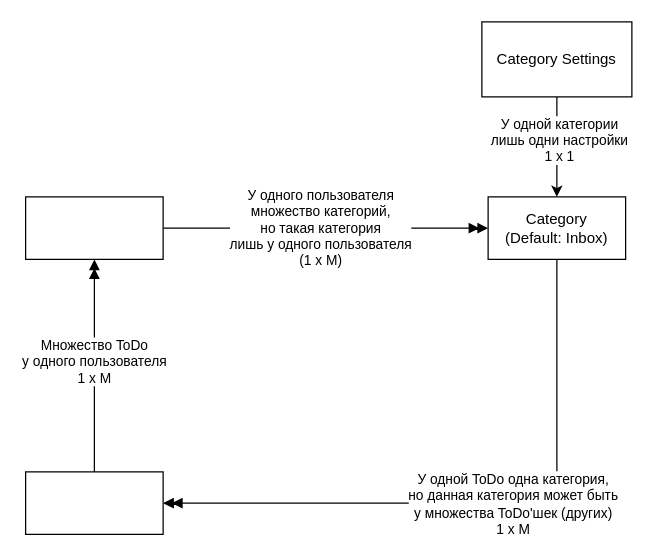
Some shapes in this 654 by 559 pixel diagram are drawn without their labels. Here are the shapes that lost their labels. From the top down, the centre of each, then its label:
At (93,227): "User".
At (93,502): "ToDo".
